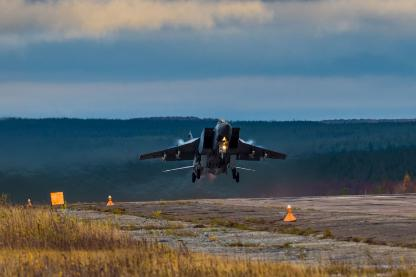Mig31: (138, 117, 286, 182)
